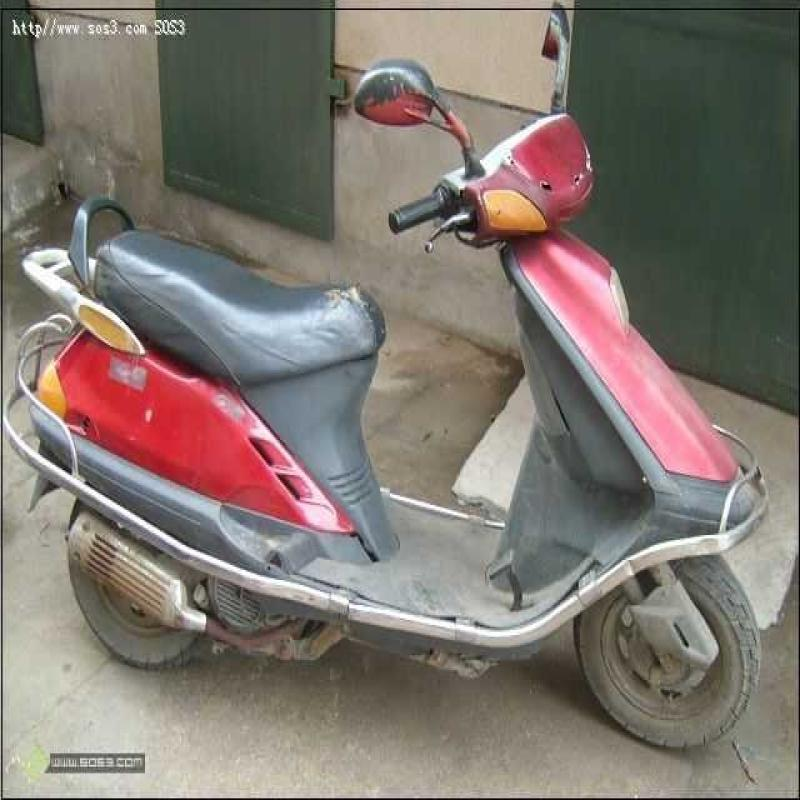bike: (31, 67, 778, 800)
